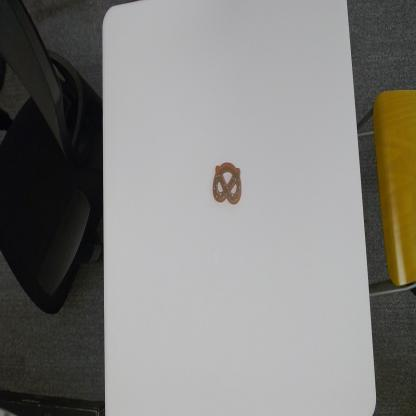Pretzel: (211, 158, 243, 206)
